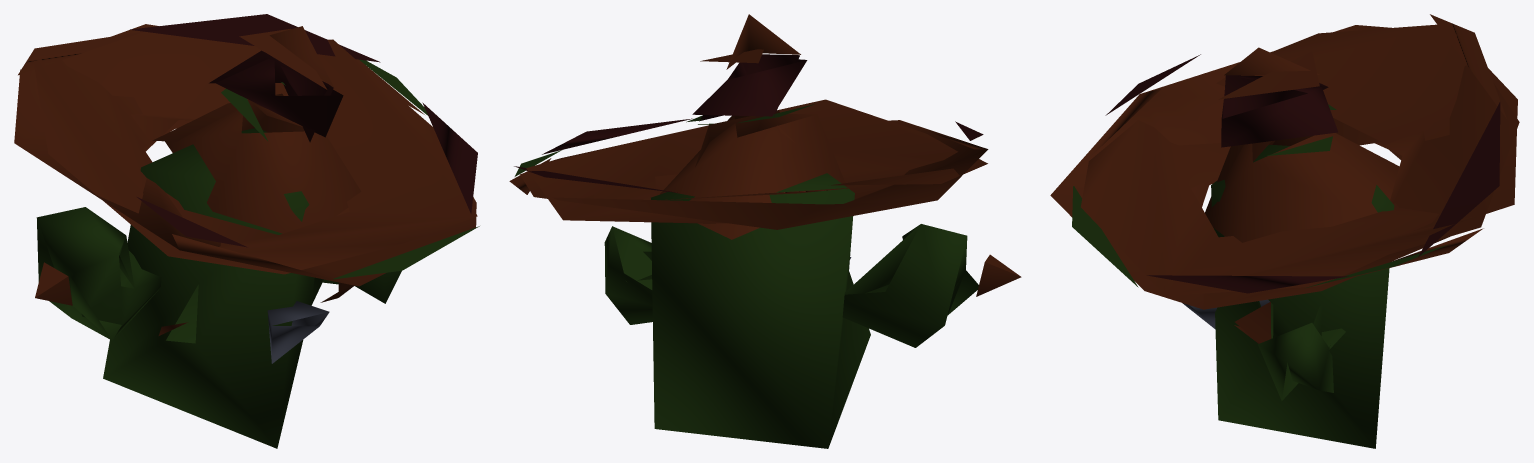
The model's file is cactoro.aggregate.glb.
3 views of the same model, side by side, from view 1: azimuth 30°, elevation 25°; view 2: azimuth 150°, elevation 25°; view 3: azimuth 270°, elevation 25° (orthographic).
Parts seen in each view (by area): view 1: HordeReadyRigidMesh; view 2: HordeReadyRigidMesh; view 3: HordeReadyRigidMesh.
Boxes of the visible parts, bbox=[...] form: HordeReadyRigidMesh: bbox=[14, 14, 479, 448]; HordeReadyRigidMesh: bbox=[509, 14, 1021, 448]; HordeReadyRigidMesh: bbox=[1050, 14, 1519, 448].
Bounding box in the file's own units: 1.38 × 1.18 × 1.27.
